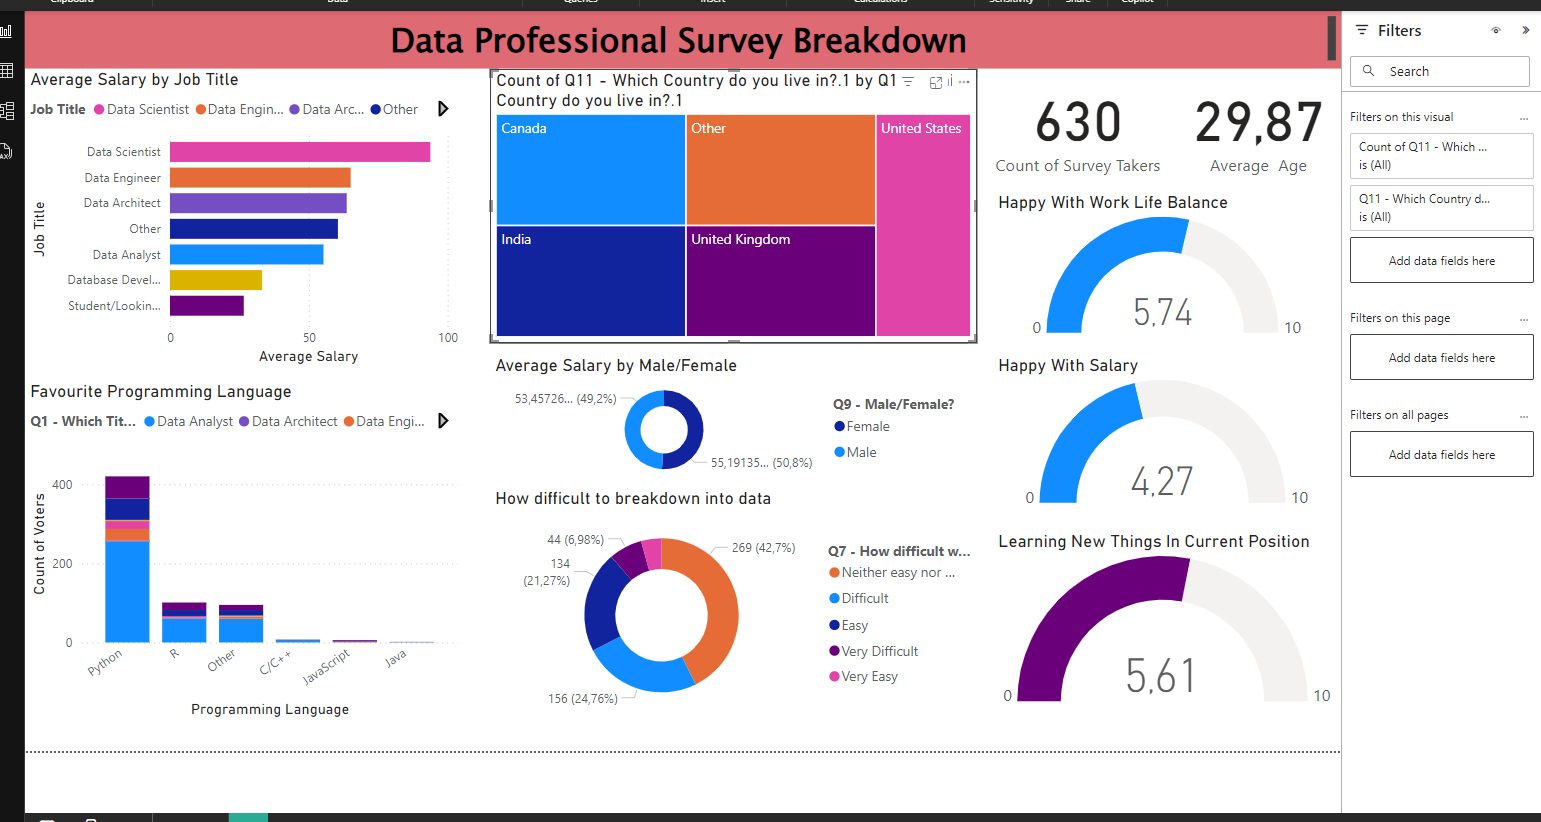

The page's visual inventory and layout, read from the dashboard file:
{"tool":"powerbi","page":{"name":"Page 1","canvas":[1280,720],"ordinal":0},"visuals":[{"type":"textbox","box":[0,0,1280,56.4],"z":0},{"type":"card","title":"bvv","fields":{"Values":["CountNonNull(Data Professional Survey.Unique ID)"]},"box":[929.8,56.4,188.7,109.9],"z":1000},{"type":"card","fields":{"Values":["Avg(Data Professional Survey.Q10 - Current Age)"]},"box":[1119.5,56.4,160.5,109.9],"z":2000},{"type":"barChart","title":"Average Salary by Job Title ","fields":{"Category":["Data Professional Survey.Q1 - Which Title Best Fits your Current Role?.1"],"Y":["Avg(Data Professional Survey.Average Salary)"],"Series":["Data Professional Survey.Q1 - Which Title Best Fits your Current Role?.1"]},"box":[0,56.4,426,292.8],"z":3000},{"type":"columnChart","title":"Favourite Programming Language ","fields":{"Category":["Data Professional Survey.Q5 - Favorite Programming Language.1"],"Y":["CountNonNull(Data Professional Survey.Unique ID)"],"Series":["Data Professional Survey.Q1 - Which Title Best Fits your Current Role?.1"]},"box":[0,359.9,426,332.6],"z":4000},{"type":"treemap","fields":{"Group":["Data Professional Survey.Q11 - Which Country do you live in?.1"],"Values":["Count(Data Professional Survey.Q11 - Which Country do you live in?.1)"]},"box":[452.3,56.4,473.7,266.5],"z":5000},{"type":"gauge","title":"Happy With Work Life Balance","fields":{"Y":["Avg(Data Professional Survey.Q6 - How Happy are you in your Current Position with the following? (Work/Life Balance))"],"MinValue":["Min(Data Professional Survey.Q6 - How Happy are you in your Current Position with the following? (Work/Life Balance))"],"MaxValue":["Max(Data Professional Survey.Q6 - How Happy are you in your Current Position with the following? (Work/Life Balance))"]},"box":[941.5,166.3,338.5,146.9],"z":6000},{"type":"gauge","title":"Happy With Salary","fields":{"Y":["Avg(Data Professional Survey.Q6 - How Happy are you in your Current Position with the following? (Salary))"],"MaxValue":["Max(Data Professional Survey.Q6 - How Happy are you in your Current Position with the following? (Salary))"],"MinValue":["Min(Data Professional Survey.Q6 - How Happy are you in your Current Position with the following? (Salary))"]},"box":[961,322.9,312.2,149.8],"z":7000},{"type":"gauge","title":"Learning New Things In Current Position","fields":{"Y":["Avg(Data Professional Survey.Q6 - How Happy are you in your Current Position with the following? (Learning New Things))"],"MinValue":["Min(Data Professional Survey.Q6 - How Happy are you in your Current Position with the following? (Learning New Things))"],"MaxValue":["Max(Data Professional Survey.Q6 - How Happy are you in your Current Position with the following? (Learning New Things))"]},"box":[968.8,505.8,311.2,176],"z":8000},{"type":"donutChart","title":"Average Salary by Male/Female","fields":{"Category":["Data Professional Survey.Q9 - Male/Female?"],"Y":["Avg(Data Professional Survey.Average Salary)"]},"box":[456.2,322.9,469.8,118.7],"z":9000},{"type":"donutChart","title":"How difficult to breakdown into data","fields":{"Category":["Data Professional Survey.Q7 - How difficult was it for you to break into Data?"],"Y":["CountNonNull(Data Professional Survey.Q7 - How difficult was it for you to break into Data?)"]},"box":[452.3,464,477.6,228.6],"z":10000}]}

Visuals, with their boxes in screenshot pixels (x1, y1, x2, y2):
textbox: (20,0,1515,66)
"bvv" card: (1106,66,1327,194)
card - Avg(Data Professional Survey.Q10 - Current Age): (1328,66,1515,194)
"Average Salary by Job Title " barChart: (20,66,518,408)
"Favourite Programming Language " columnChart: (20,420,518,809)
treemap - Data Professional Survey.Q11 - Which Country do you live in?.1 x Count(Data Professional Survey.Q11 - Which Country do you live in?.1): (548,66,1102,377)
"Happy With Work Life Balance" gauge: (1120,194,1515,366)
"Happy With Salary" gauge: (1143,377,1507,552)
"Learning New Things In Current Position" gauge: (1152,591,1515,796)
"Average Salary by Male/Female" donutChart: (553,377,1102,516)
"How difficult to breakdown into data" donutChart: (548,542,1106,809)
